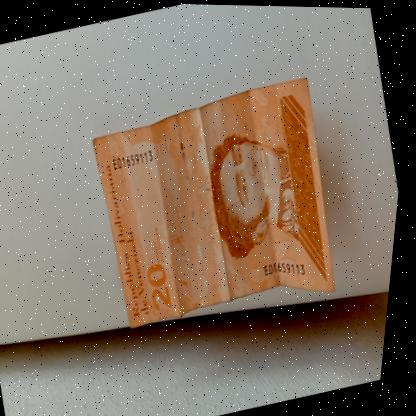twenty-front-vef: (76, 70, 362, 340)
